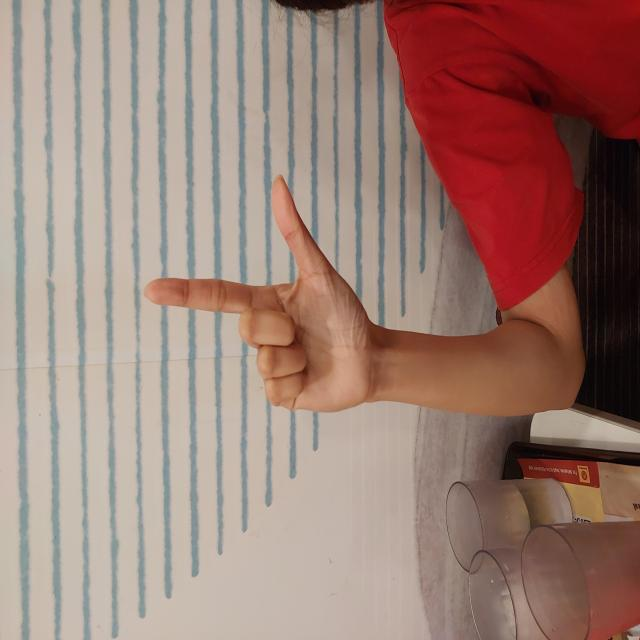L: (225, 142, 468, 374)
